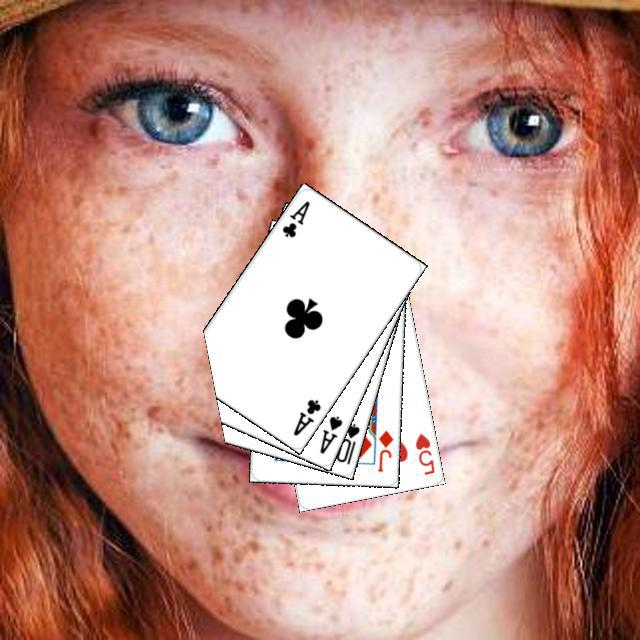10s: (331, 418, 361, 466)
5h: (410, 428, 436, 477)
Ac: (288, 394, 323, 438), (277, 196, 312, 239)
As: (314, 411, 344, 456)
Jd: (372, 425, 395, 474)
